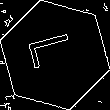L_E: (27, 33, 83, 77)
